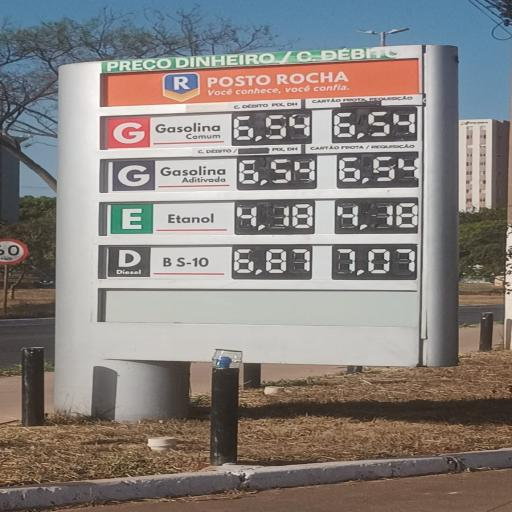ETANOL: (101, 200, 233, 234)
GASOLINA AD: (111, 157, 235, 189)
GASOLINA C: (109, 114, 228, 147)
S10: (107, 244, 228, 278)
placa: (99, 58, 429, 302)
preco: (232, 110, 316, 144), (234, 199, 322, 231), (234, 246, 317, 279), (238, 155, 318, 188)
